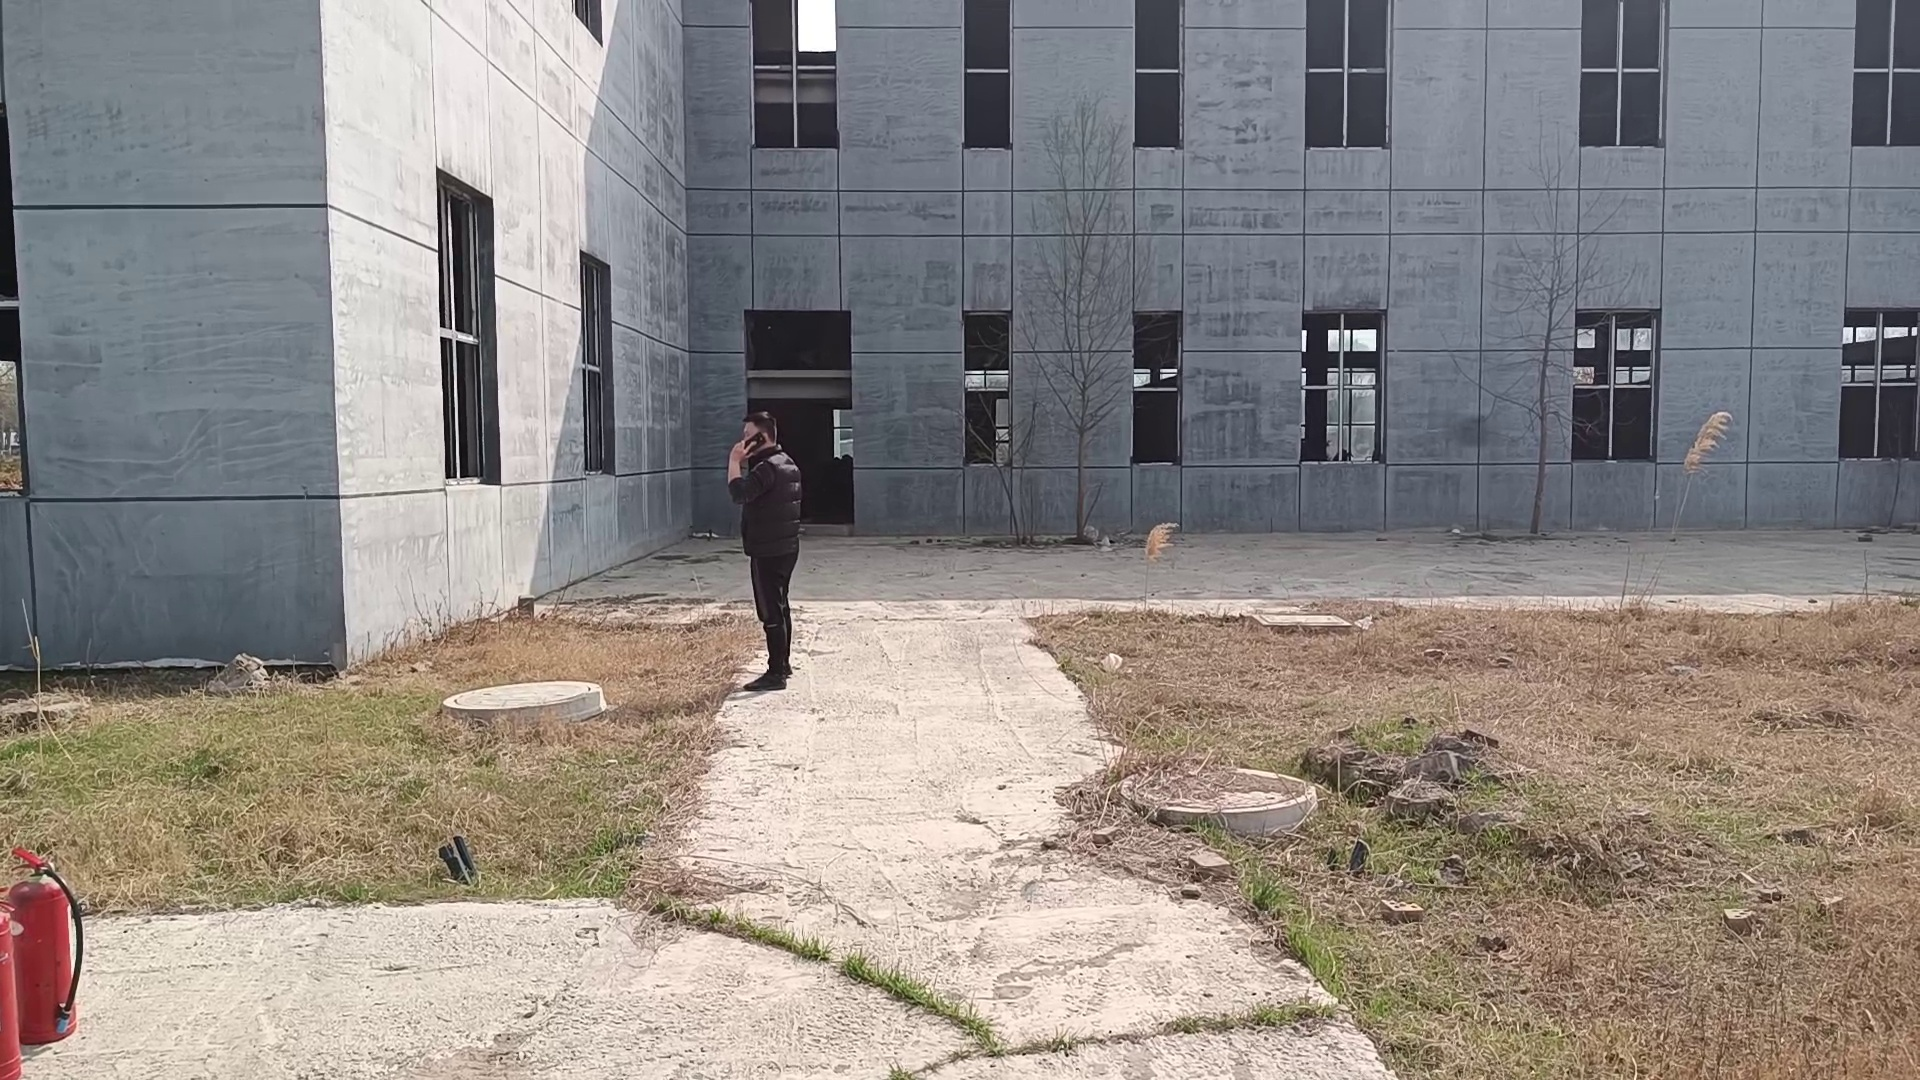phone: (717, 401, 781, 468)
